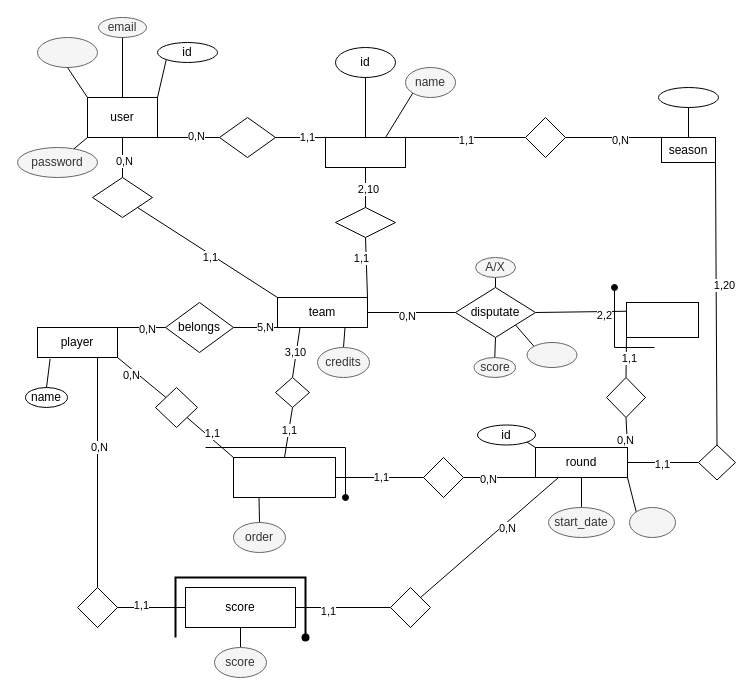
Some shapes in this 753 by 695 pixel diagram are drawn without their labels. The centre of each missing label's shape, as x and y in pixels:
league: the point at 365,152
master: the point at 247,137
match: the point at 662,320
num: the point at 652,522
owns: the point at 122,197
partecipation: the point at 284,477
plays: the point at 365,222
username: the point at 67,52
wins?: the point at 551,355
year: the point at 688,97
